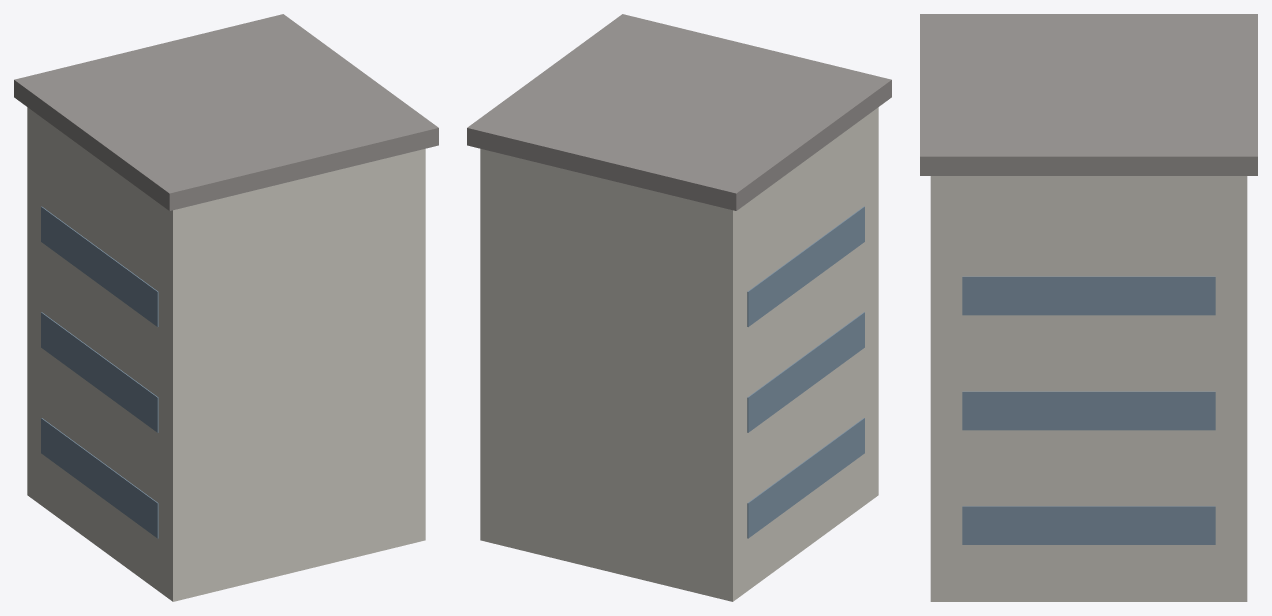
Rendered from building_small.glb.
The picture shows the model from 3 angles, left to right: view 1: azimuth 30°, elevation 25°; view 2: azimuth 150°, elevation 25°; view 3: azimuth 270°, elevation 25°; orthographic projection. The views are drawn at different scales.
Parts seen in each view (by area): view 1: prop; view 2: prop; view 3: prop.
Part boxes in pixels (bbox=[...]): prop: bbox=[14, 14, 438, 601]; prop: bbox=[467, 14, 891, 601]; prop: bbox=[920, 14, 1257, 601].
Bounding box in the file's own units: 6.4 × 9.4 × 6.4.
